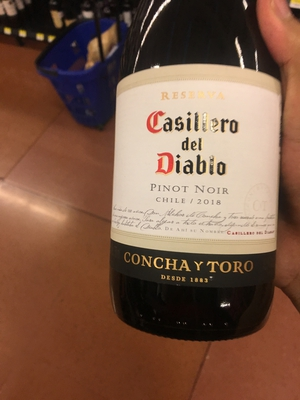casillero del diablo pinot noir: (94, 15, 288, 339)
